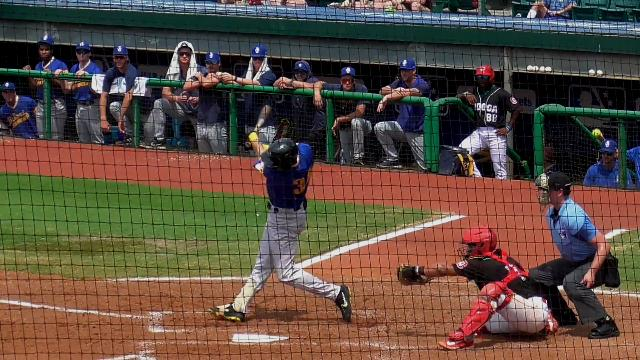baseball bat: (246, 101, 272, 133)
